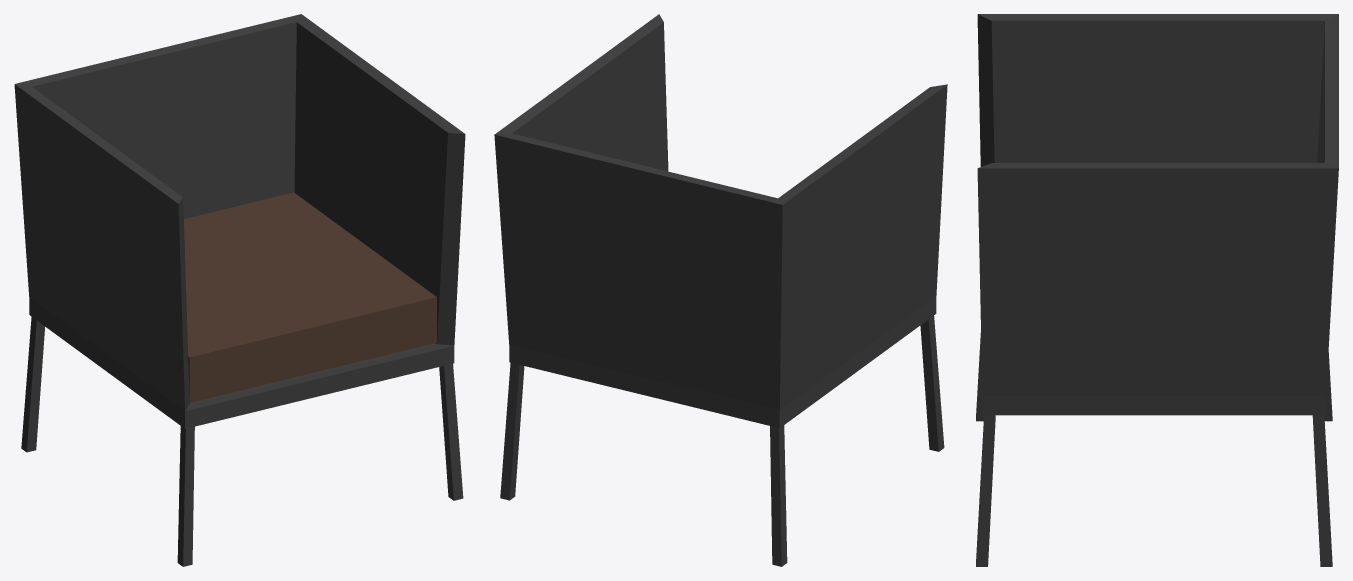
The model's file is reception_chair.glb.
3 views of the same model, side by side, from view 1: azimuth 30°, elevation 25°; view 2: azimuth 150°, elevation 25°; view 3: azimuth 270°, elevation 25° (orthographic). The views are drawn at different scales.
Parts seen in each view (by area): view 1: reception_chair; view 2: reception_chair; view 3: reception_chair.
Part boxes in pixels (left/top/right/bottom): reception_chair: left=14, top=14, right=465, bottom=566; reception_chair: left=494, top=14, right=947, bottom=566; reception_chair: left=976, top=14, right=1338, bottom=566.
Bounding box in the file's own units: 0.6962 × 0.8423 × 0.6924.
